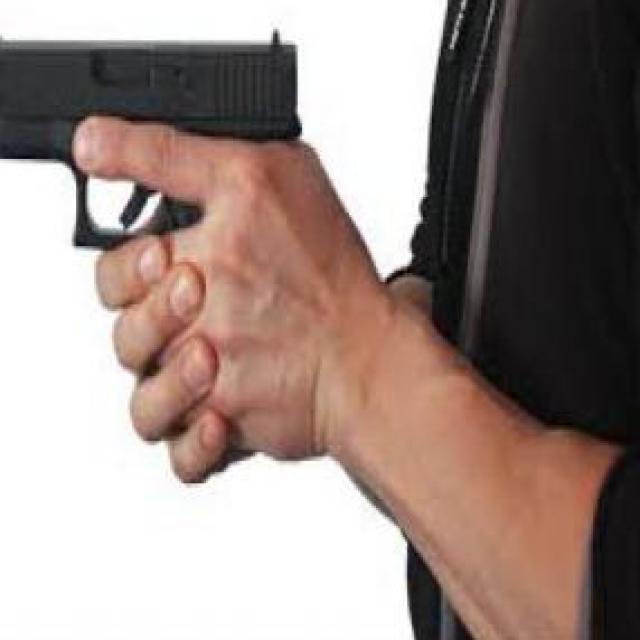pistol: (0, 22, 298, 470)
